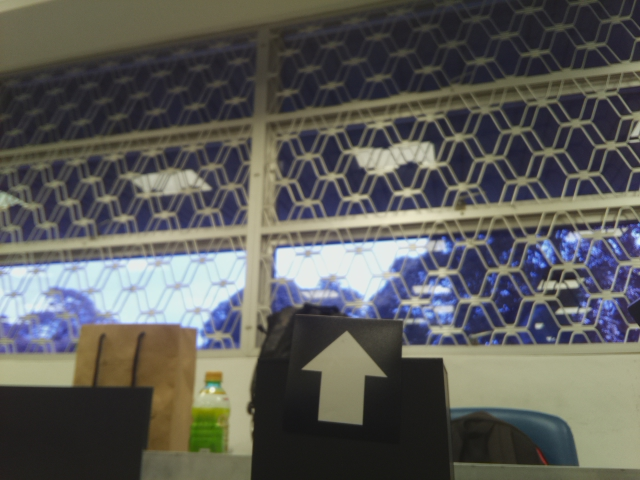up: (294, 320, 392, 438)
